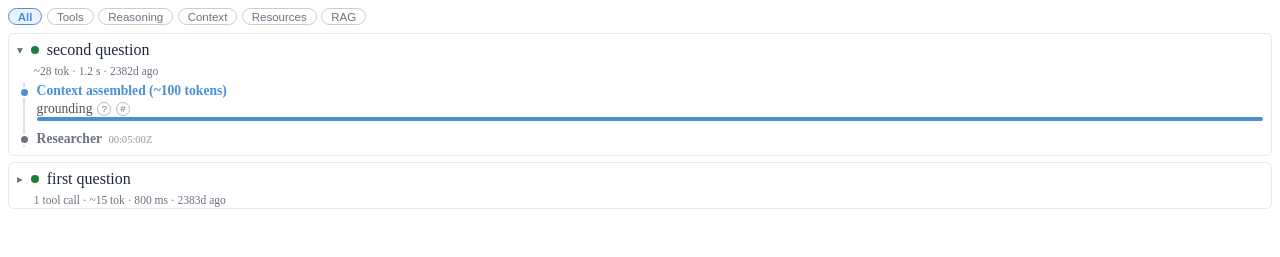
Test case: filter chips hide non-matching nodes within turns
The width and height of the screenshot is (1280, 257).
expect the element with test id "timeline-context" is shown: met, box [37,83,1263,121]
expect the element with test id "timeline-reasoning" shows "Researcher": met, box [37,131,102,146]
Click the button with test id "timeline-filter" showing "Tools" at (70, 17), box [47,8,94,25]
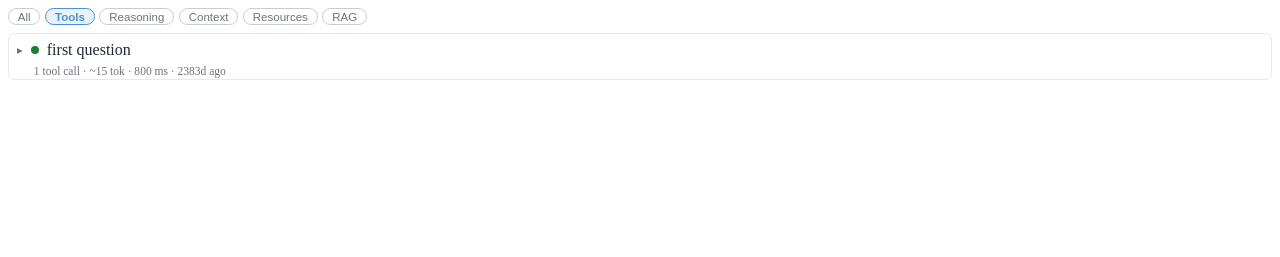
expect the element with test id "timeline-context" is gone: met
expect the element with test id "timeline-reasoning" is gone: met
expect the number of buttons with test id "timeline-turn-header" is 1: met
Note: Expand it to reveal its (sole) ToolIO node.
Click the button with test id "timeline-turn-header" at (89, 49), box [9,34,1271,65]
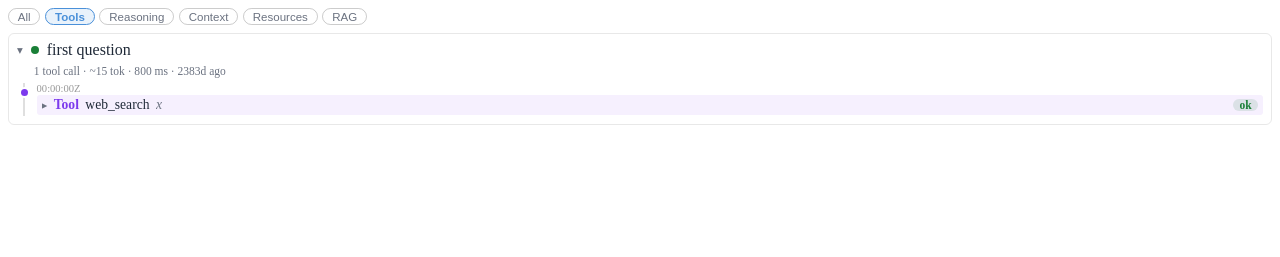
expect the element with test id "toolio" is shown: met, box [37,95,1263,115]
Click the button with test id "timeline-filter" showing "Context" at (209, 17), box [179,8,238,25]
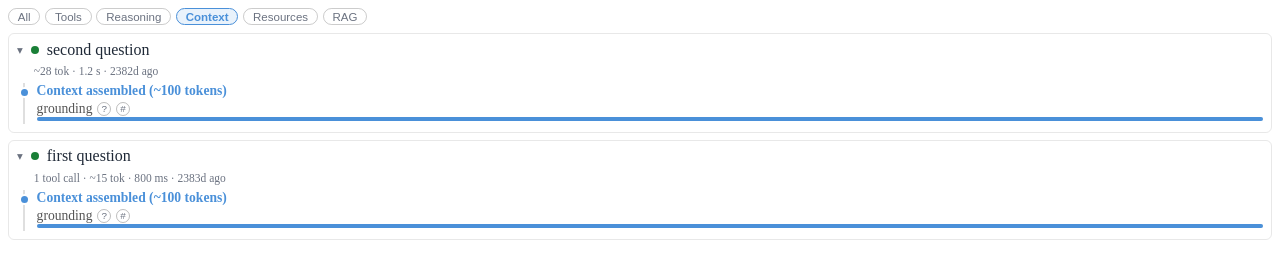
expect the number of elements with test id "timeline-context" is 2: met, box [37,83,1263,121]; [37,190,1263,228]
expect the element with test id "toolio" is gone: met
